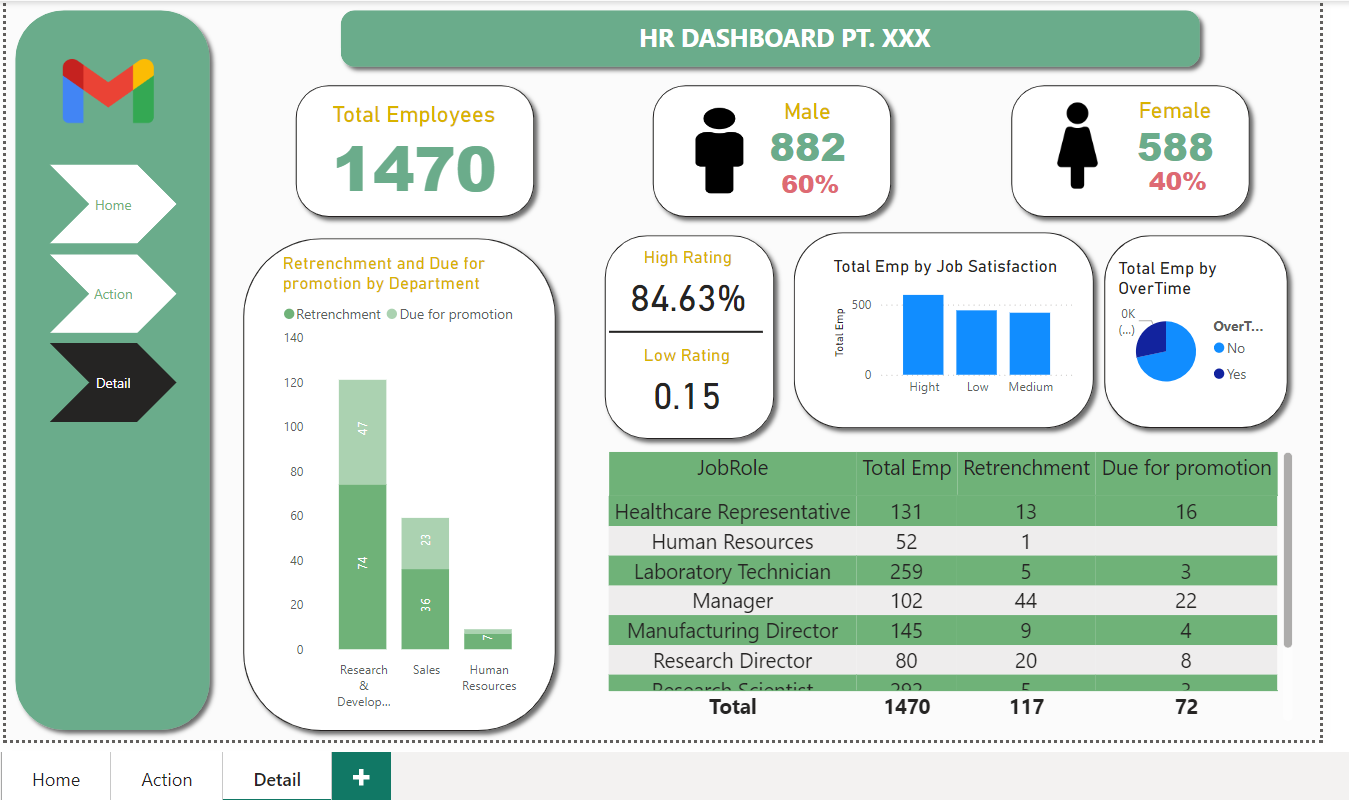

This screenshot's page, from the dashboard's own definition file:
{"tool":"powerbi","page":{"name":"Detail","canvas":[1280,720],"ordinal":2},"visuals":[{"type":"shape","box":[317.8,0,855.1,73.2],"z":0},{"type":"shape","box":[620.9,73.2,250.4,146.4],"z":0,"group":"g2"},{"type":"card","title":"Male","fields":{"Values":["All Measure.Male"]},"box":[726.7,95.3,108.9,67.9],"z":1000,"group":"g2"},{"type":"shape","box":[573.9,219.6,183.2,216.5],"z":1000},{"type":"card","title":"Male","fields":{"Values":["All Measure.% male"]},"box":[737.7,149,90,60],"z":2000,"group":"g2"},{"type":"shape","box":[587.5,299.8,149.9,45.4],"z":2000},{"type":"shape","box":[0,0,207.4,719.2],"z":3000},{"type":"image","box":[665.5,91.6,56.8,107.4],"z":3000,"group":"g2"},{"type":"image","box":[38.2,50.6,123.6,73],"z":4000},{"type":"textbox","box":[600,12.6,315.8,60],"z":5000},{"type":"group","id":"g1","title":"Group 4","box":[273.2,72.6,251.1,146.8],"z":6000},{"type":"group","id":"g2","title":"Group 5","box":[620.9,73.2,250.4,146.4],"z":7000},{"type":"group","id":"g3","title":"Group 7","box":[970.6,62.9,250.4,156.7],"z":8000},{"type":"shape","box":[1061.5,219.6,196.8,205.9],"z":8000,"group":"g7"},{"type":"group","id":"g4","title":"Group 4","box":[758.6,216.5,310.4,209],"z":9000,"group":"g8"},{"type":"textbox","box":[58.4,227.4,102.6,58.4],"z":9000},{"type":"group","id":"g5","title":"Group 4","box":[222.6,222.6,322.5,498.2],"z":10000,"group":"g6"},{"type":"columnChart","fields":{"Category":["HR Analytics Data.Job Satisfaction"],"Y":["All Measure.Total Emp"]},"box":[800.3,249.1,244,145.4],"z":10000,"group":"g8"},{"type":"tableEx","fields":{"Values":["HR Analytics Data.JobRole","All Measure.Total Emp","All Measure.Retreanchment","All Measure.Due for promotion"]},"box":[581.5,434.6,676.8,272.6],"z":10000},{"type":"shape","box":[273.2,72.6,250.4,146.4],"z":11000,"group":"g1"},{"type":"shape","box":[970.6,73.2,250.4,146.4],"z":11000,"group":"g3"},{"type":"shape","box":[758.6,216.5,310.4,209],"z":11000,"group":"g4"},{"type":"group","id":"g6","title":"Group 3","box":[222.6,222.6,322.5,498.2],"z":11000},{"type":"shape","box":[222.6,222.6,322.5,498.2],"z":11000,"group":"g5"},{"type":"columnChart","fields":{"Category":["HR Analytics Data.Department"],"Y":["All Measure.Retreanchment","All Measure.Due for promotion"]},"box":[264.5,246.5,259.9,452.7],"z":11000,"group":"g6"},{"type":"pieChart","fields":{"Category":["HR Analytics Data.OverTime"],"Y":["All Measure.Total Emp"]},"box":[1079.1,250.1,158.7,143.6],"z":11000,"group":"g7"},{"type":"card","title":"Total Employees","fields":{"Values":["All Measure.Total Emp"]},"box":[304,97.6,186.8,96.3],"z":12000,"group":"g1"},{"type":"pageNavigator","box":[42.4,159,124.2,252.9],"z":12000},{"type":"card","title":"Female","fields":{"Values":["All Measure.Female"]},"box":[1082.7,92.9,112.1,69.5],"z":13000,"group":"g3"},{"type":"group","id":"g7","title":"Group 1","box":[1061.5,219.6,196.8,205.9],"z":13000},{"type":"image","box":[1018.6,62.9,50,155.7],"z":14000,"group":"g3"},{"type":"group","id":"g8","title":"Group 2","box":[758.6,216.5,310.4,209],"z":14000},{"type":"card","title":"Male","fields":{"Values":["All Measure.% female"]},"box":[1093.8,146.6,96.3,60],"z":15000,"group":"g3"},{"type":"card","title":"Low Rating","fields":{"Values":["All Measure.% Low emp rating"]},"box":[604.2,334.6,119.6,74.2],"z":15000},{"type":"card","title":"High Rating","fields":{"Values":["All Measure.% High emp rating"]},"box":[598.1,239.2,133.3,72.7],"z":15001}]}

Visuals, with their boxes on the page's 1280x720 design canvas (x1, y1, x2, y2). These are canvas units, not pixel positions in the 1349x800 screenshot, which may show the page scaled, cropped or inside an application window:
shape: bbox(318, 0, 1173, 73)
shape: bbox(621, 73, 871, 220)
"Male" card: bbox(727, 95, 836, 163)
shape: bbox(574, 220, 757, 436)
"Male" card: bbox(738, 149, 828, 209)
shape: bbox(588, 300, 737, 345)
shape: bbox(0, 0, 207, 719)
image: bbox(666, 92, 722, 199)
image: bbox(38, 51, 162, 124)
textbox: bbox(600, 13, 916, 73)
"Group 4" group: bbox(273, 73, 524, 219)
"Group 5" group: bbox(621, 73, 871, 220)
"Group 7" group: bbox(971, 63, 1221, 220)
shape: bbox(1062, 220, 1258, 426)
"Group 4" group: bbox(759, 216, 1069, 426)
textbox: bbox(58, 227, 161, 286)
"Group 4" group: bbox(223, 223, 545, 721)
columnChart - HR Analytics Data.Job Satisfaction x All Measure.Total Emp: bbox(800, 249, 1044, 394)
tableEx - HR Analytics Data.JobRole x All Measure.Total Emp: bbox(582, 435, 1258, 707)
shape: bbox(273, 73, 524, 219)
shape: bbox(971, 73, 1221, 220)
shape: bbox(759, 216, 1069, 426)
"Group 3" group: bbox(223, 223, 545, 721)
shape: bbox(223, 223, 545, 721)
columnChart - HR Analytics Data.Department x All Measure.Retreanchment: bbox(264, 246, 524, 699)
pieChart - HR Analytics Data.OverTime x All Measure.Total Emp: bbox(1079, 250, 1238, 394)
"Total Employees" card: bbox(304, 98, 491, 194)
pageNavigator: bbox(42, 159, 167, 412)
"Female" card: bbox(1083, 93, 1195, 162)
"Group 1" group: bbox(1062, 220, 1258, 426)
image: bbox(1019, 63, 1069, 219)
"Group 2" group: bbox(759, 216, 1069, 426)
"Male" card: bbox(1094, 147, 1190, 207)
"Low Rating" card: bbox(604, 335, 724, 409)
"High Rating" card: bbox(598, 239, 731, 312)
